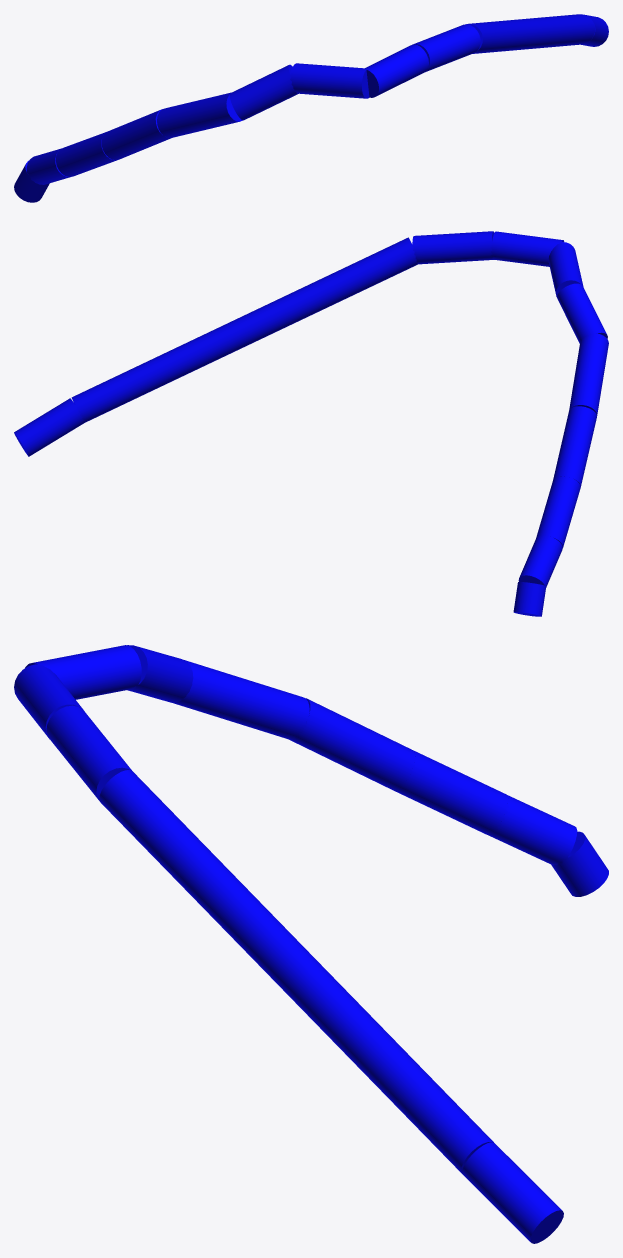
3 renders of one model, top to bottom at view 1: azimuth 30°, elevation 25°; view 2: azimuth 150°, elevation 25°; view 3: azimuth 270°, elevation 25°, orthographic. The views are drawn at different scales.
Visible parts, largest first — view 1: Cylinder(Clone) (×11); view 2: Cylinder(Clone) (×11); view 3: Cylinder(Clone) (×11).
Boxes of the visible parts, x1=… form: Cylinder(Clone) (×11): x1=14, y1=14, x2=608, y2=202; Cylinder(Clone) (×11): x1=14, y1=231, x2=608, y2=616; Cylinder(Clone) (×11): x1=14, y1=645, x2=608, y2=1243.
Bounding box in the file's own units: 0.218 × 0.0836 × 0.1325.
